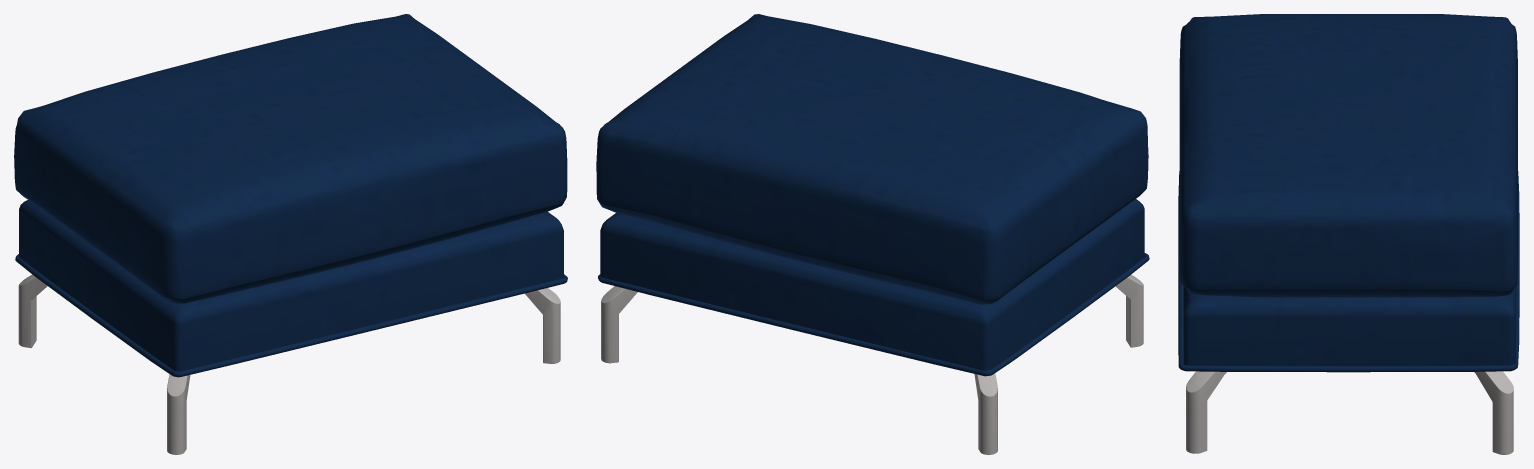
The model's file is ottoman_abo_B073ZRS8VF.glb.
The picture shows the model from 3 angles, left to right: view 1: azimuth 30°, elevation 25°; view 2: azimuth 150°, elevation 25°; view 3: azimuth 270°, elevation 25°; orthographic projection. The views are drawn at different scales.
Parts seen in each view (by area): view 1: RootNode; view 2: RootNode; view 3: RootNode.
Part boxes in pixels (x1,y1,x2,y2): RootNode: [14, 14, 567, 454]; RootNode: [596, 14, 1149, 454]; RootNode: [1178, 14, 1519, 454].
Size of the model in its own units: 0.8351 by 0.4979 by 0.5872.
Materials: 1 (1 with a texture image).
